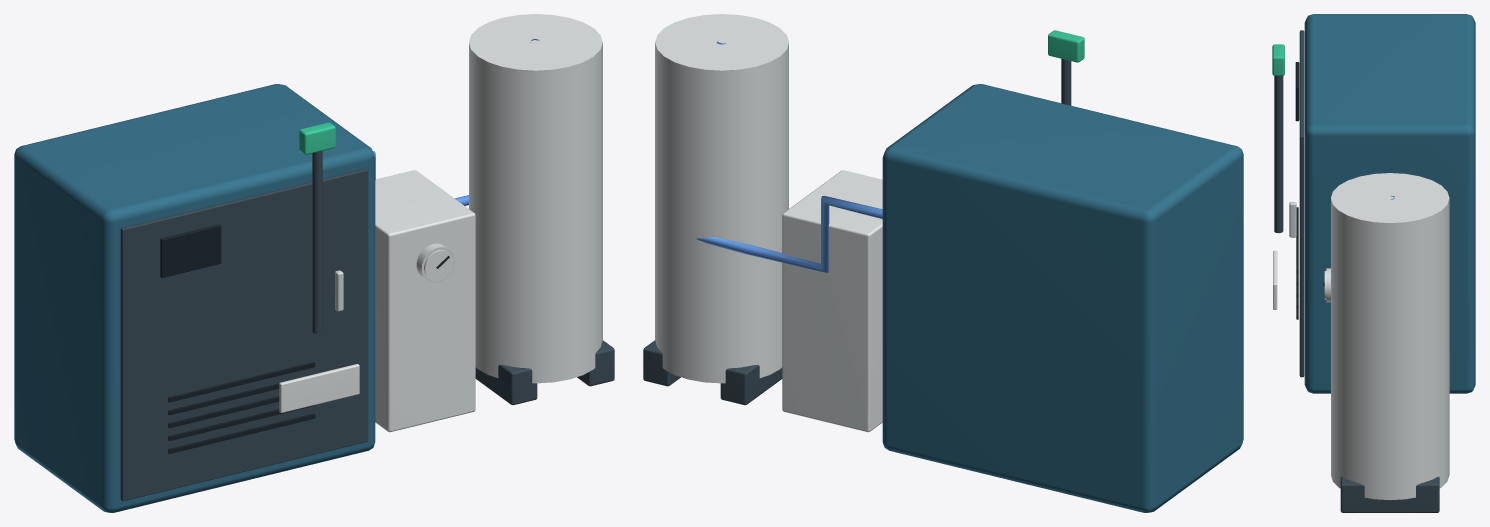
The model's file is Equipment_CAU.fbx.
3 renders of one model, left to right at view 1: azimuth 30°, elevation 25°; view 2: azimuth 150°, elevation 25°; view 3: azimuth 270°, elevation 25°, orthographic. The views are drawn at different scales.
Visible parts, largest first — view 1: CompressorPackage, CabinetDoor, AirReceiver, AirServiceModule, BlankNameplate_CAU, ControlDisplay, IndicatorSupport_CAU, ReceiverFoot, StatusLens_CAU, ReceiverFoot.001, AirVent, AirVent.004 (+4 smaller); view 2: CompressorPackage, AirReceiver, AirServiceModule, AirDelivery, ReceiverFoot, StatusLens_CAU, ReceiverFoot.001; view 3: CompressorPackage, AirReceiver, ReceiverFoot.001, CabinetDoor, IndicatorSupport_CAU, StatusLens_CAU, BlankNameplate_CAU, ControlDisplay, DoorHandle.009.
Boxes of the visible parts, x1,y1,x2,y2 form: CompressorPackage: [14, 84, 375, 512]; CabinetDoor: [120, 168, 368, 501]; AirReceiver: [469, 14, 602, 383]; AirServiceModule: [375, 170, 475, 432]; BlankNameplate_CAU: [279, 364, 359, 412]; ControlDisplay: [160, 224, 221, 277]; IndicatorSupport_CAU: [312, 151, 322, 333]; ReceiverFoot: [475, 365, 537, 405]; StatusLens_CAU: [299, 122, 335, 154]; ReceiverFoot.001: [577, 340, 614, 386]; AirVent: [168, 413, 315, 453]; AirVent.004: [168, 362, 315, 402]; CompressorPackage: [882, 84, 1243, 512]; AirReceiver: [655, 14, 788, 383]; AirServiceModule: [782, 170, 882, 432]; AirDelivery: [745, 196, 882, 272]; ReceiverFoot: [720, 365, 782, 405]; StatusLens_CAU: [1048, 30, 1084, 62]; ReceiverFoot.001: [643, 340, 680, 386]; CompressorPackage: [1304, 14, 1475, 393]; AirReceiver: [1331, 173, 1449, 500]; ReceiverFoot.001: [1340, 476, 1439, 512]; CabinetDoor: [1299, 30, 1304, 377]; IndicatorSupport_CAU: [1274, 76, 1283, 233]; StatusLens_CAU: [1272, 44, 1284, 75]; BlankNameplate_CAU: [1273, 250, 1277, 309]; ControlDisplay: [1295, 62, 1299, 121]; DoorHandle.009: [1289, 202, 1296, 237].
Bounding box in the file's own units: 3.05 × 1.96 × 1.13.
